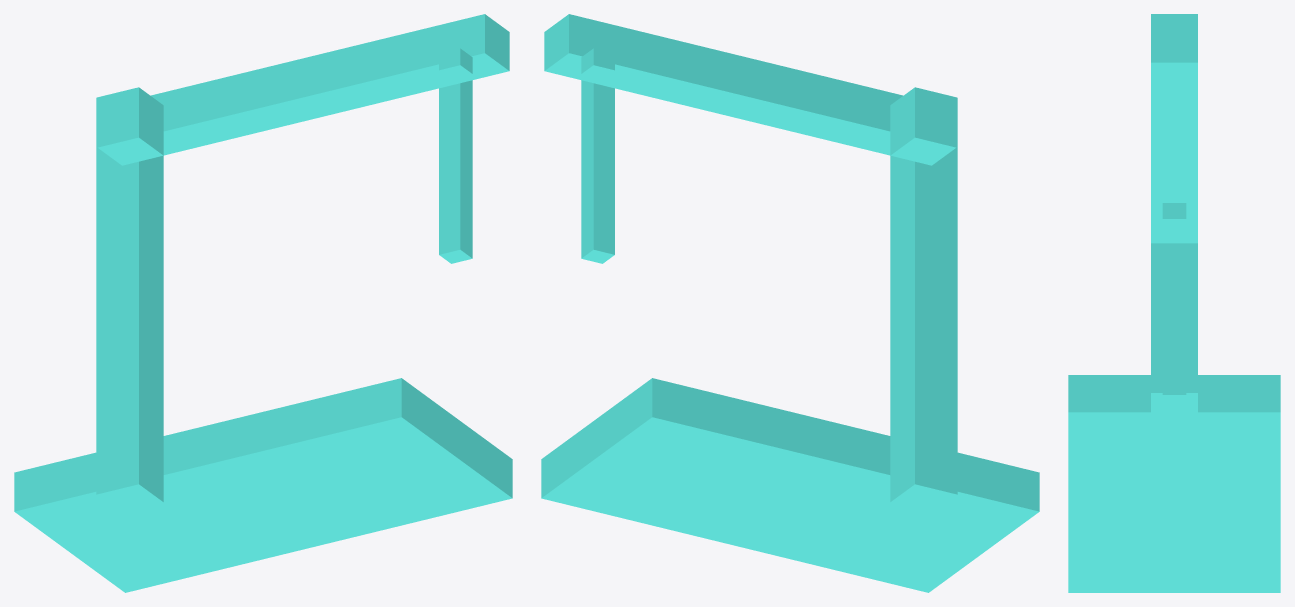
File: port-crane.gltf
The picture shows the model from 3 angles, left to right: view 1: azimuth 30°, elevation 25°; view 2: azimuth 150°, elevation 25°; view 3: azimuth 270°, elevation 25°; orthographic projection. The views are drawn at different scales.
Visible parts, largest first — view 1: port-crane; view 2: port-crane; view 3: port-crane.
Part boxes in pixels (bbox=[...]): port-crane: bbox=[14, 14, 512, 592]; port-crane: bbox=[541, 14, 1039, 592]; port-crane: bbox=[1068, 14, 1280, 592].
Size of the model in its own units: 1.6 by 1.56 by 0.72.
